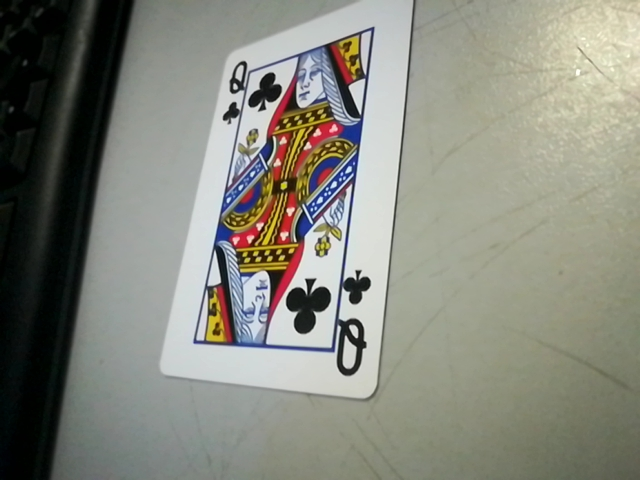mh q: (330, 268, 381, 390)
